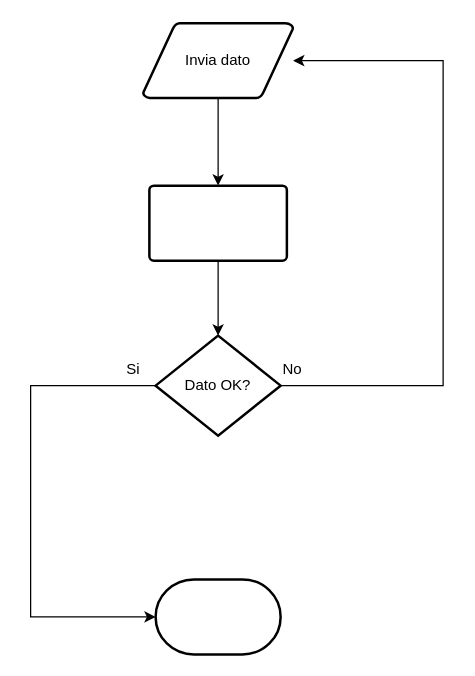
The diagram is 475 pixels wide and 676 high, and some of its shapes have lost their labels. Here are the shapes that lost their labels. From the top down, the centre of each, then its label:
point (218, 222): Rimani in ascolto
point (217, 616): Fine
